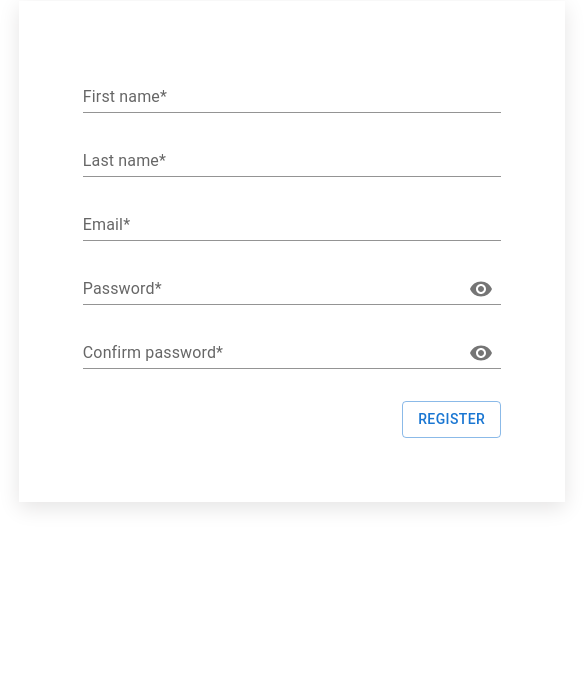
Test: Register page component › Should check if email is in correct format
The width and height of the screenshot is (585, 673).
Type "test.com" into the field labelled "Email*" at coordinates (292, 225), box [83, 209, 501, 241]
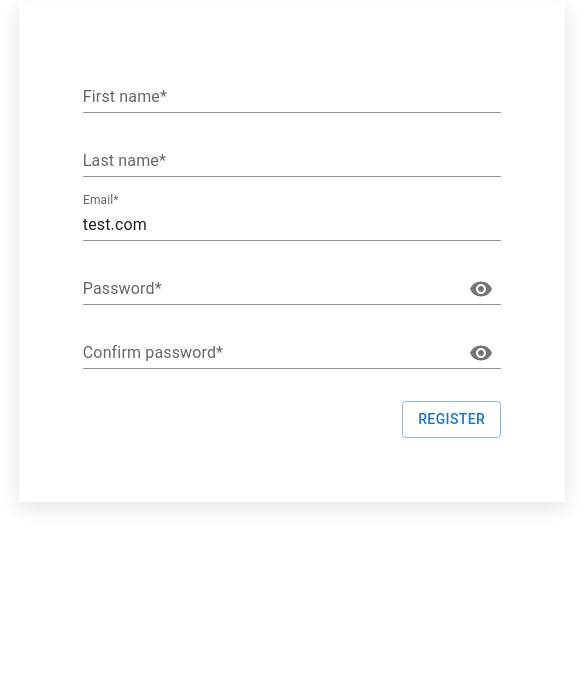
Click the button with test id "registerButton" at coordinates (452, 419), box [402, 401, 501, 438]
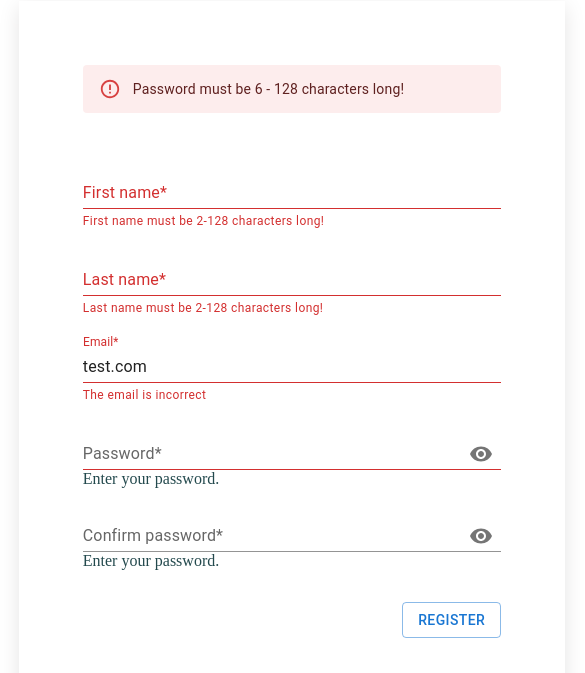
Result: the text "The email is incorrect" is shown at [83, 388, 206, 402]
